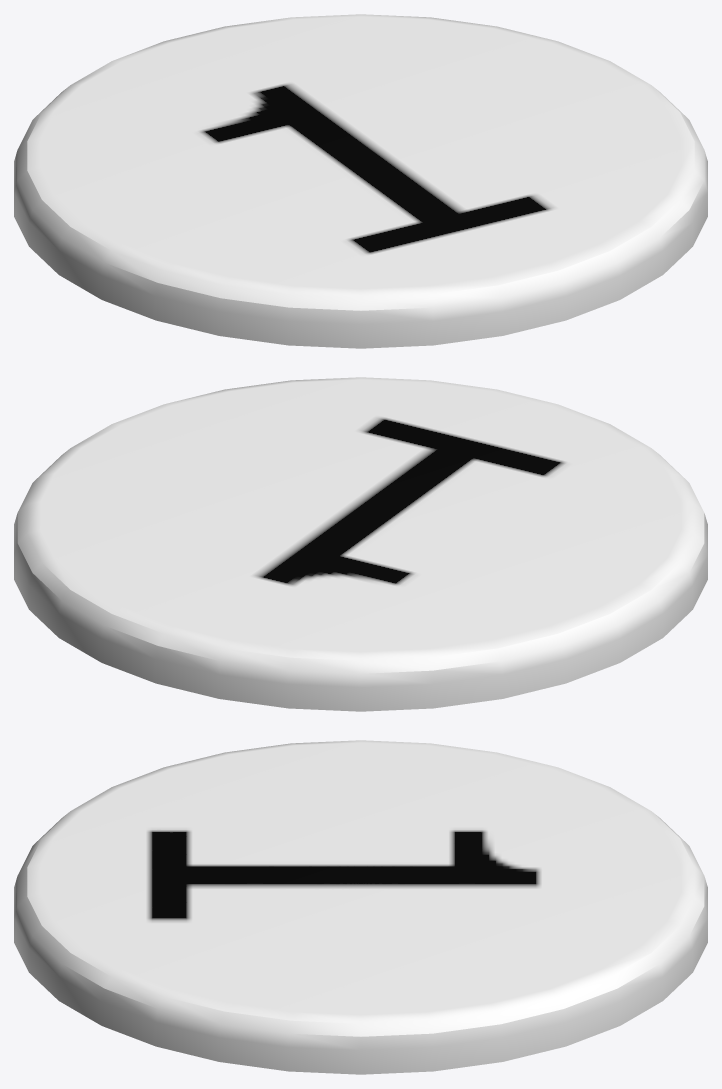
The model's file is Numberchip.fbx.
3 renders of one model, top to bottom at view 1: azimuth 30°, elevation 25°; view 2: azimuth 150°, elevation 25°; view 3: azimuth 270°, elevation 25°, orthographic.
Parts seen in each view (by area): view 1: Numberchip; view 2: Numberchip; view 3: Numberchip.
Part boxes in pixels (box(x1,y1,x2,y2)): Numberchip: box(14, 14, 707, 348); Numberchip: box(14, 377, 707, 711); Numberchip: box(14, 740, 707, 1074).
Bounding box in the file's own units: 5.19 × 0.3982 × 5.17.
